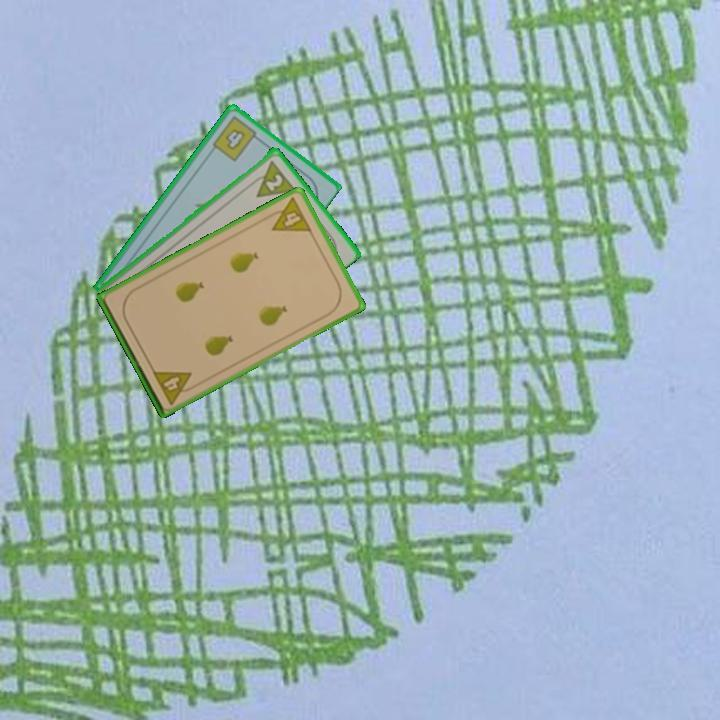2p: (245, 156, 298, 200)
4b: (208, 112, 264, 164)
4p: (262, 194, 315, 235), (149, 366, 200, 407)
